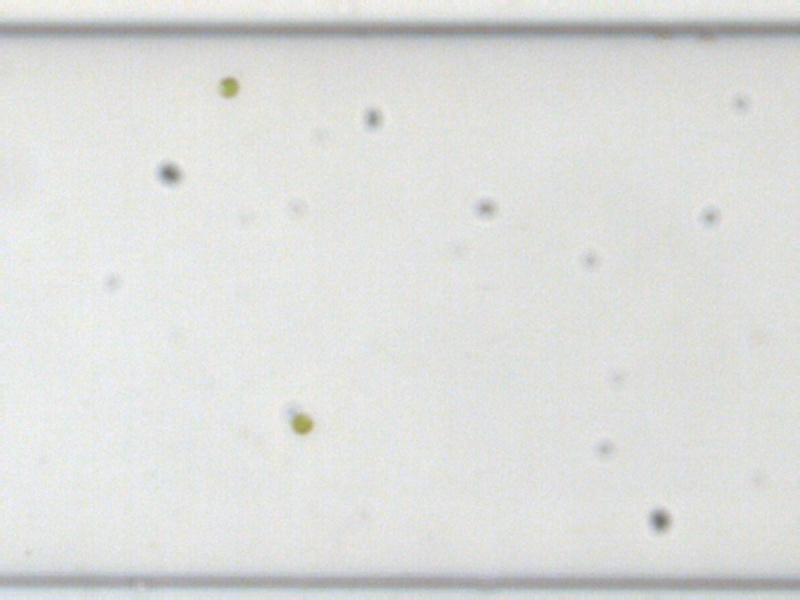Chlorella: (288, 412, 314, 433), (217, 76, 238, 98)
